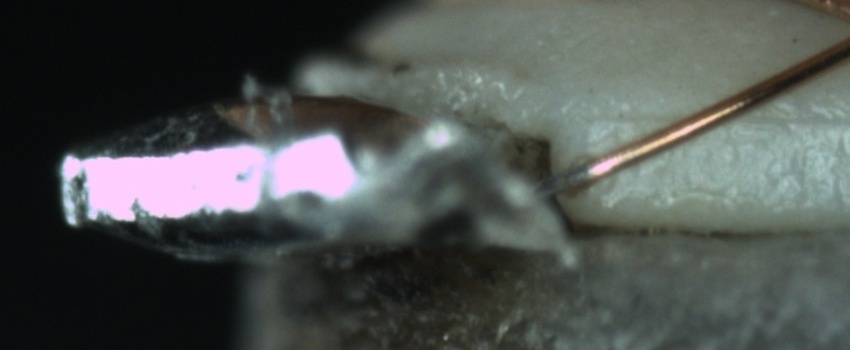CL: (834, 5, 850, 54)
DL: (604, 85, 850, 151)
TS: (535, 161, 591, 196)
